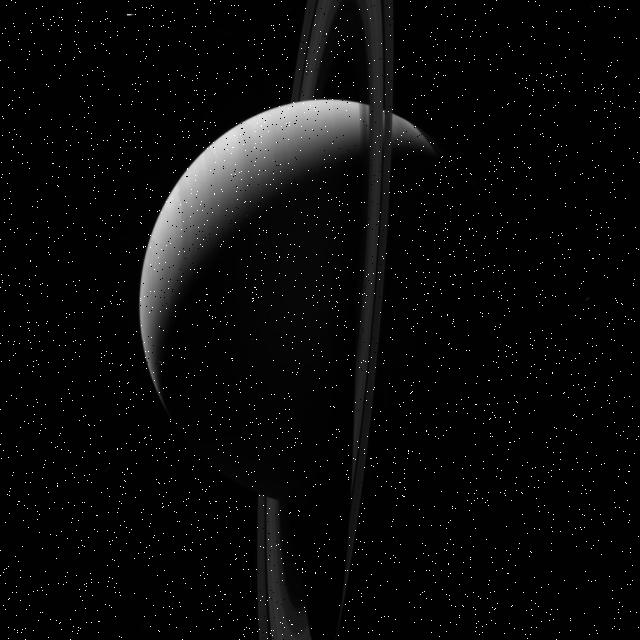Saturn: (137, 0, 515, 640)
